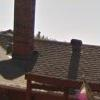Chimney: (6, 3, 51, 60)
